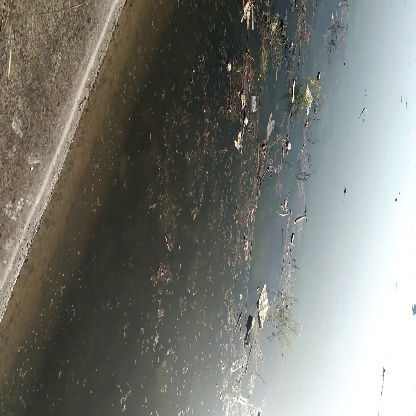plastic-garbage: (257, 279, 282, 331)
